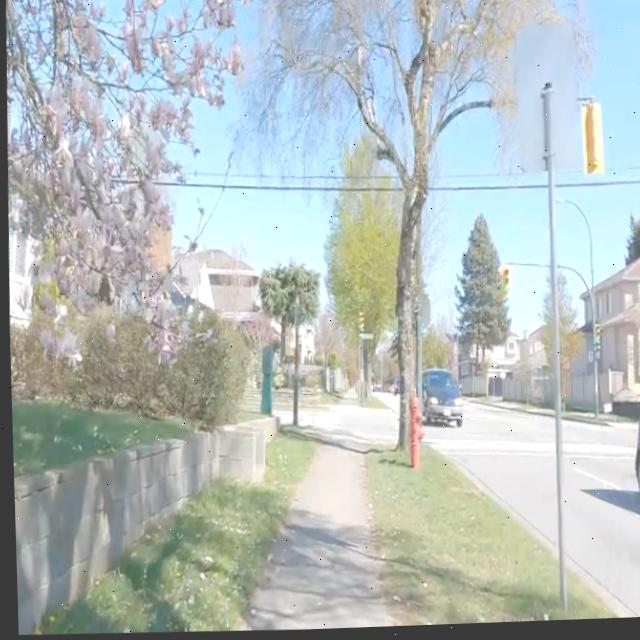Automobile: (419, 370, 459, 430), (632, 409, 640, 505)
Obstacle: (344, 0, 542, 451), (11, 421, 273, 634), (363, 451, 616, 629), (34, 464, 285, 634), (7, 311, 253, 429), (9, 400, 191, 477), (541, 85, 561, 610), (262, 434, 312, 491), (258, 347, 270, 416), (407, 399, 418, 470), (291, 309, 297, 428), (230, 412, 262, 423)
Road: (423, 402, 551, 547), (560, 423, 640, 622), (309, 415, 393, 448), (270, 412, 289, 428), (304, 420, 308, 426)
Sidewalk: (234, 446, 388, 632), (329, 389, 381, 415)
